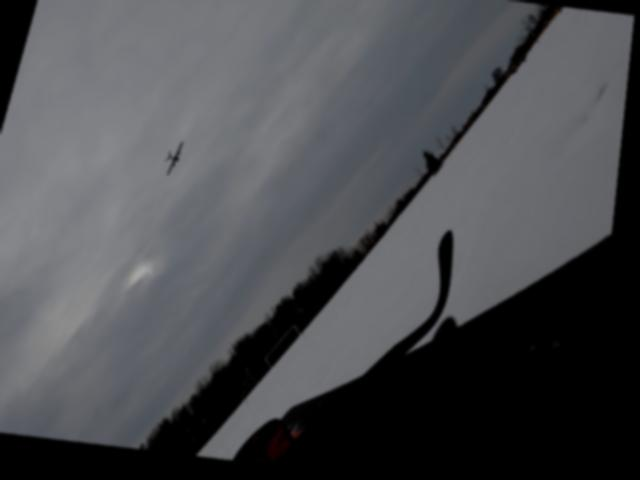plane: (165, 140, 190, 180)
